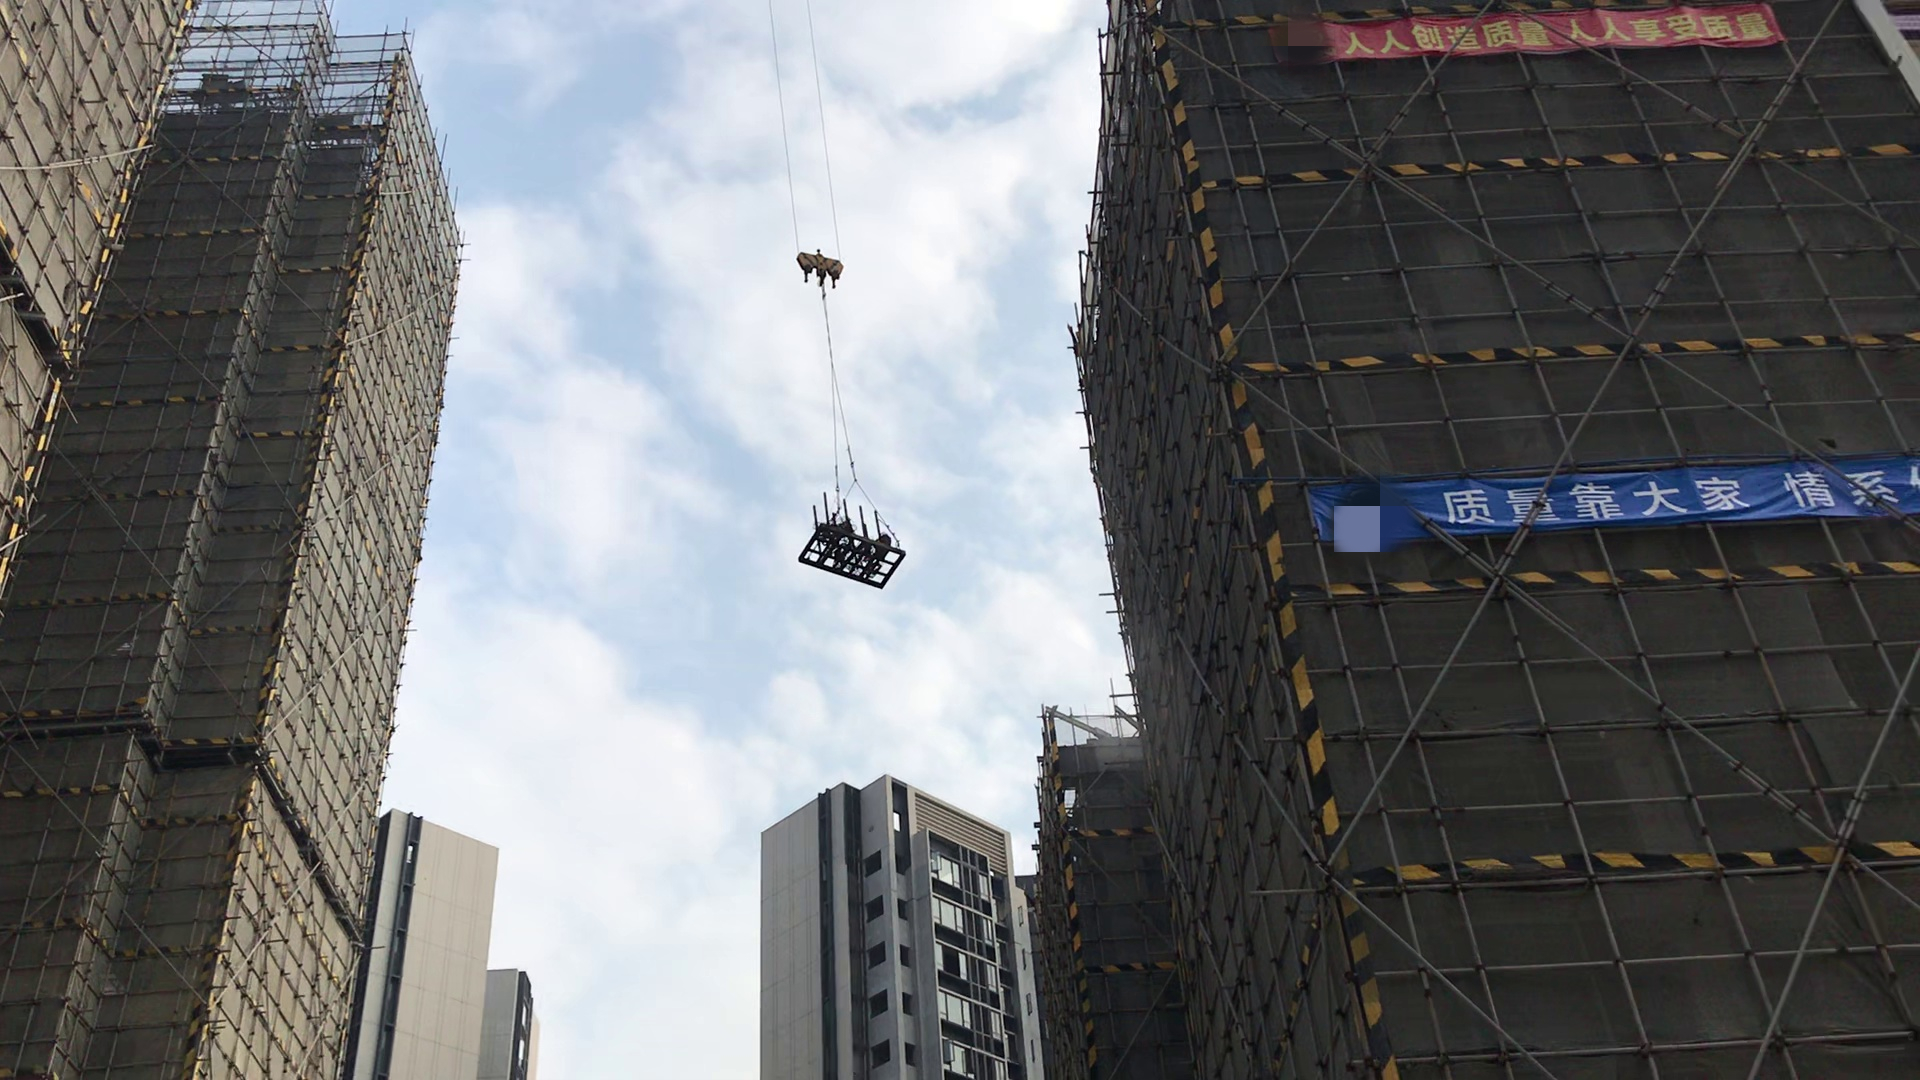hook: (791, 237, 856, 293)
slogan: (1353, 431, 1920, 572), (1303, 15, 1799, 82)
